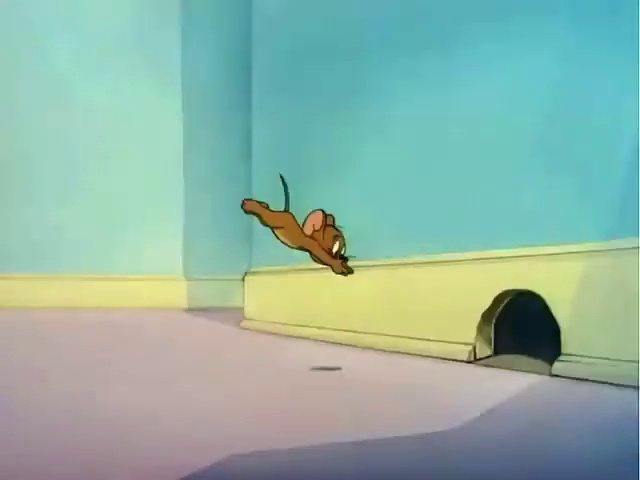jerry: (233, 150, 383, 287)
